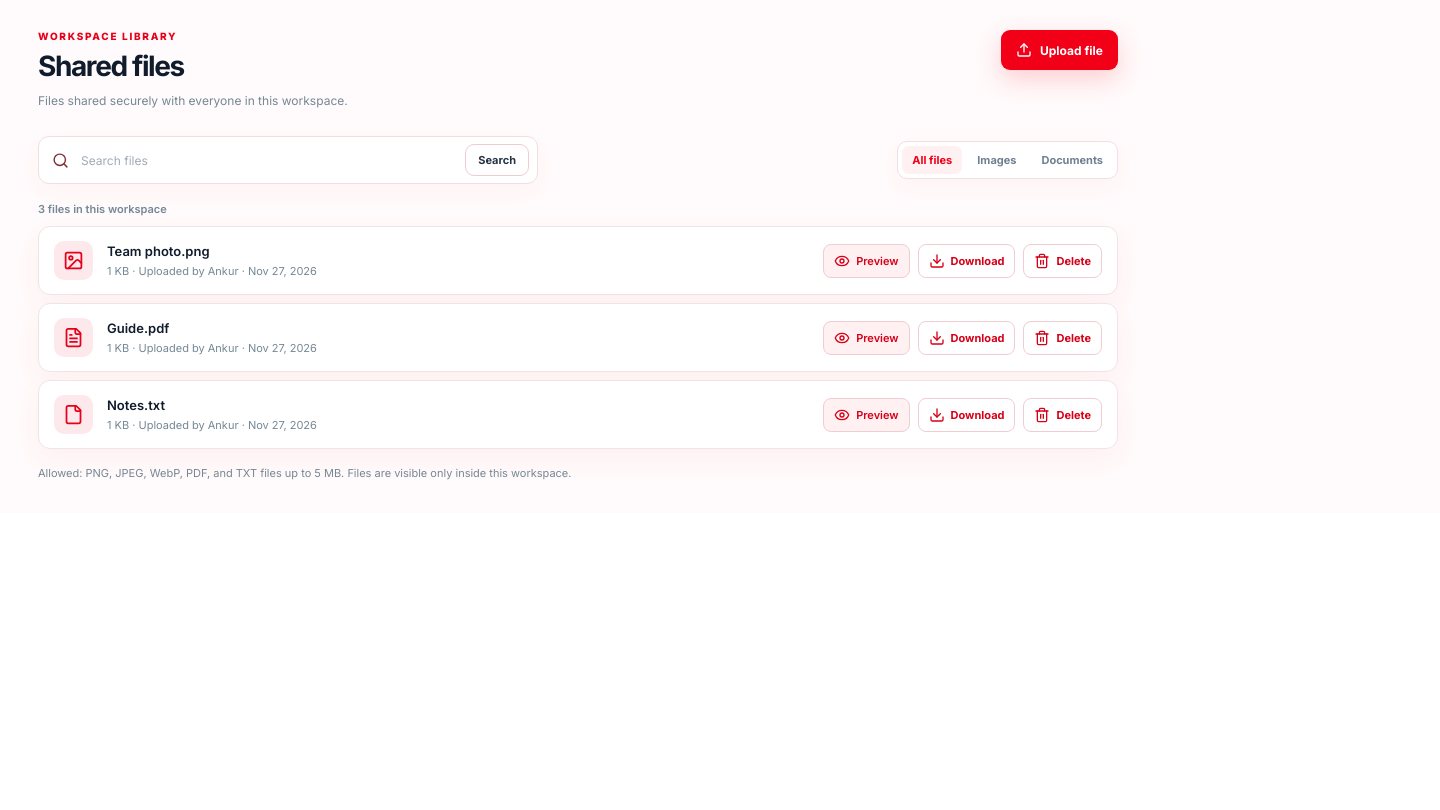
Shared file deletion › asks for confirmation and removes only the confirmed file
The image size is (1440, 810).
Click the button with aria-label "Delete Team photo.png".
click(1063, 261)  # box [1024,244,1102,278]
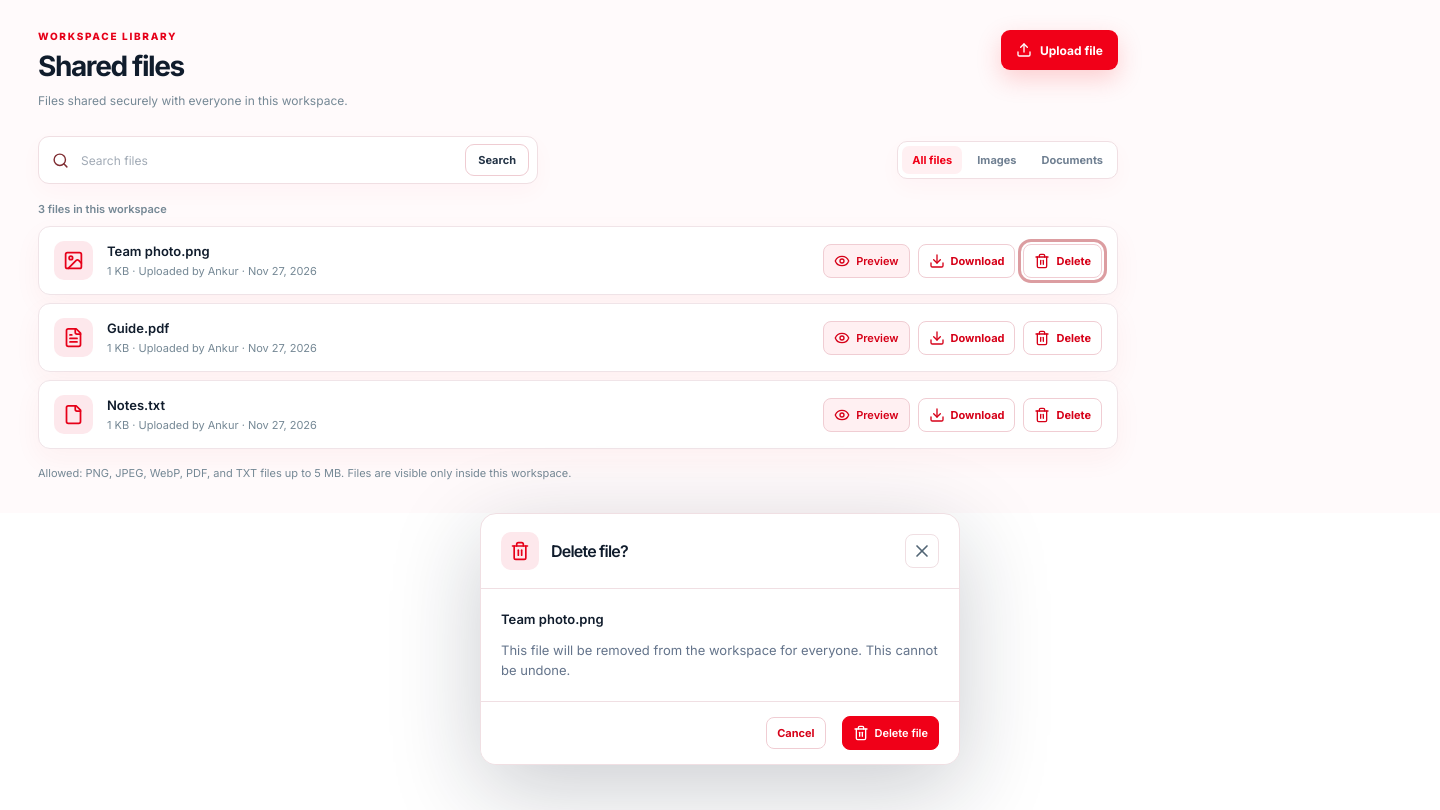
Now the dialog "Delete file?" is shown, box [480,513,960,765]
Click the button "Delete file".
click(890, 733)  # box [842,716,939,750]
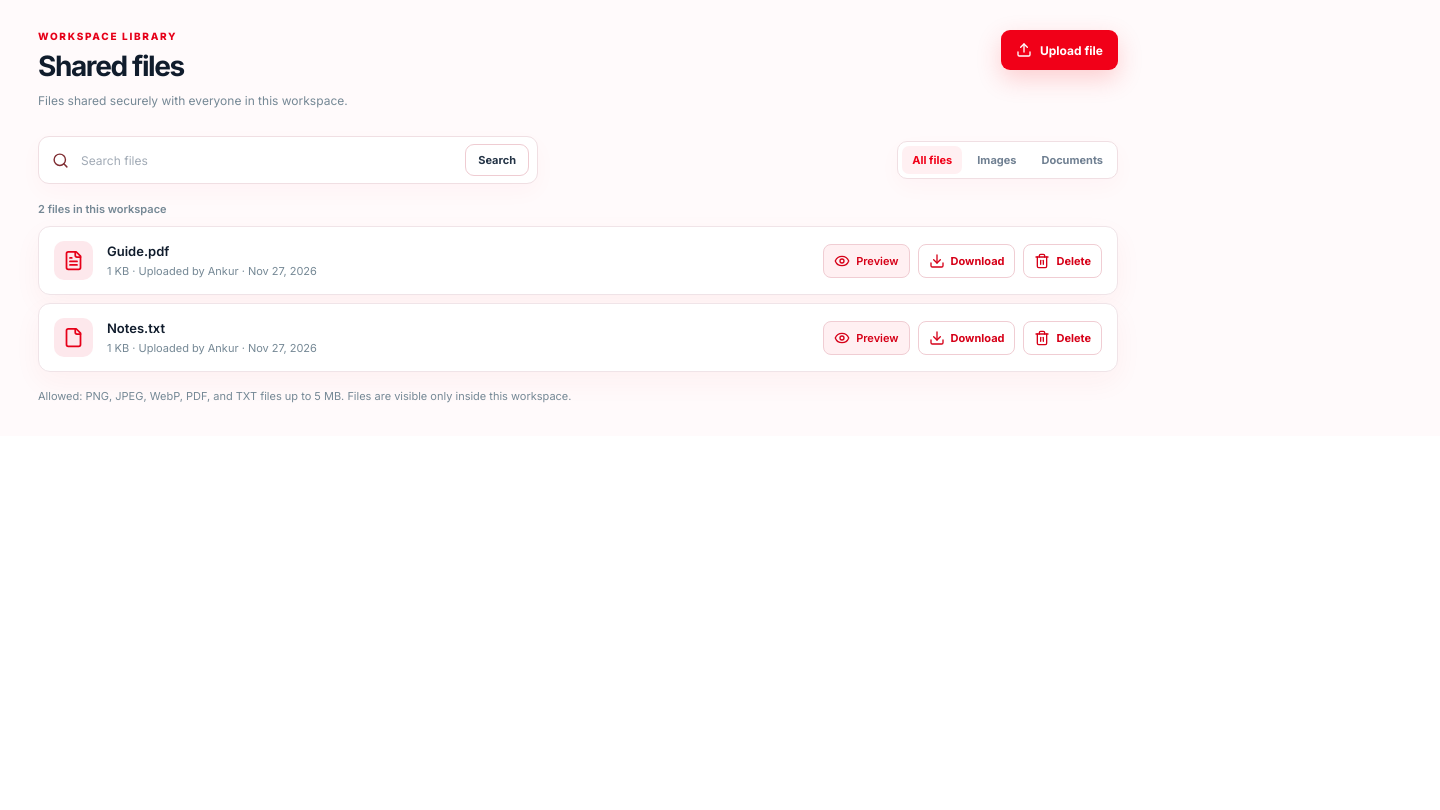
Expected: the button with aria-label "Preview Guide.pdf" is shown, [107,243,169,259]
Now the text "2 files in this workspace" is shown, box [38,202,167,216]
